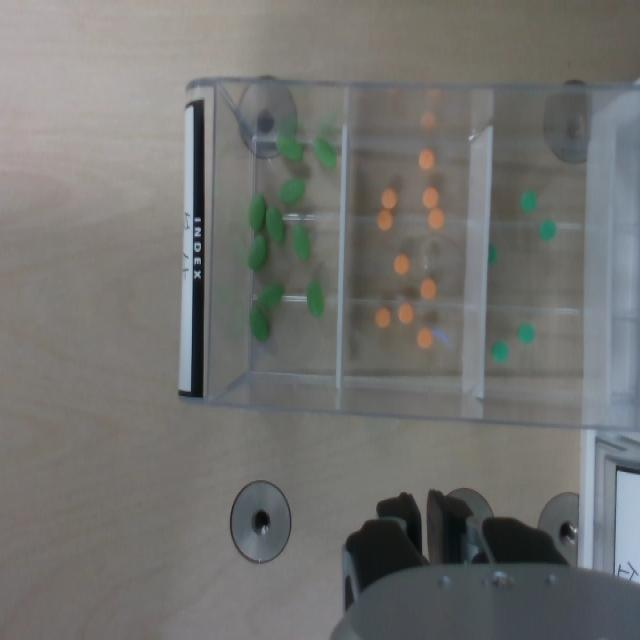famodine: (521, 189, 538, 211), (494, 340, 511, 362), (519, 322, 535, 343), (540, 220, 556, 240)
otillen_tab: (277, 132, 303, 162), (314, 137, 337, 169), (278, 177, 306, 203), (259, 280, 284, 308), (266, 204, 284, 242), (248, 193, 266, 230), (292, 223, 310, 260), (250, 307, 269, 342), (248, 234, 266, 268), (308, 280, 324, 317)
samsung_octylonium_tab: (419, 147, 435, 169), (393, 253, 409, 275), (421, 277, 436, 299), (382, 188, 398, 208), (423, 187, 438, 208), (430, 209, 445, 229), (398, 303, 413, 323), (378, 209, 392, 230), (376, 307, 390, 327), (418, 329, 432, 346)
